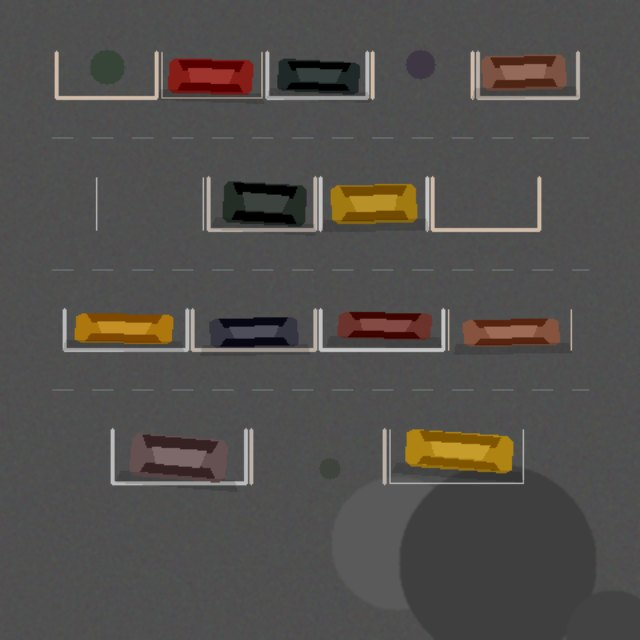space-empty: (251, 429, 384, 483), (96, 177, 203, 229), (432, 177, 539, 229), (56, 52, 156, 97), (372, 52, 472, 97)
space-occupied: (389, 429, 523, 483), (112, 429, 245, 483), (208, 177, 315, 229), (320, 177, 427, 229), (64, 309, 187, 349), (192, 309, 315, 349), (320, 309, 443, 349), (448, 309, 571, 349), (161, 52, 261, 97), (267, 52, 367, 97), (477, 52, 577, 97)
